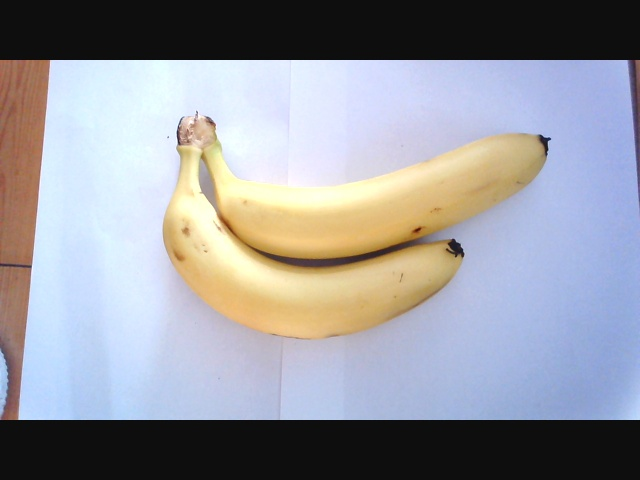banana: (165, 119, 546, 341)
